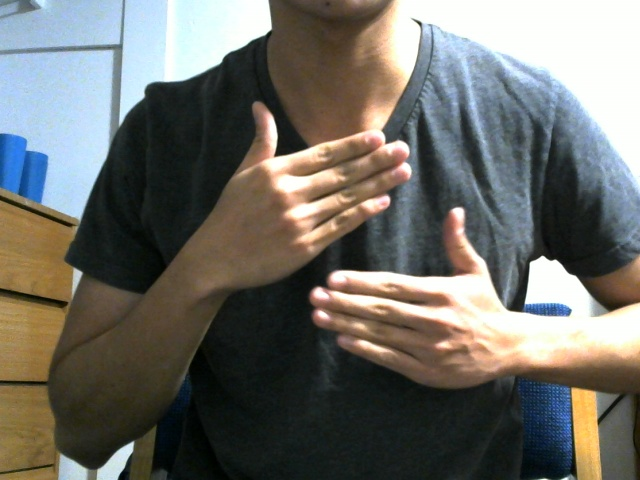Enjoy: (180, 100, 521, 409)
